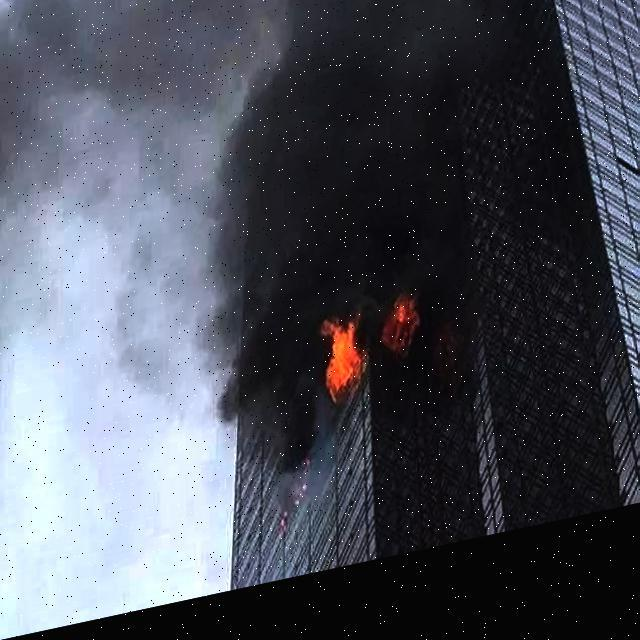Fire: (316, 320, 368, 415), (378, 301, 418, 381), (271, 469, 312, 543), (433, 332, 461, 407)
